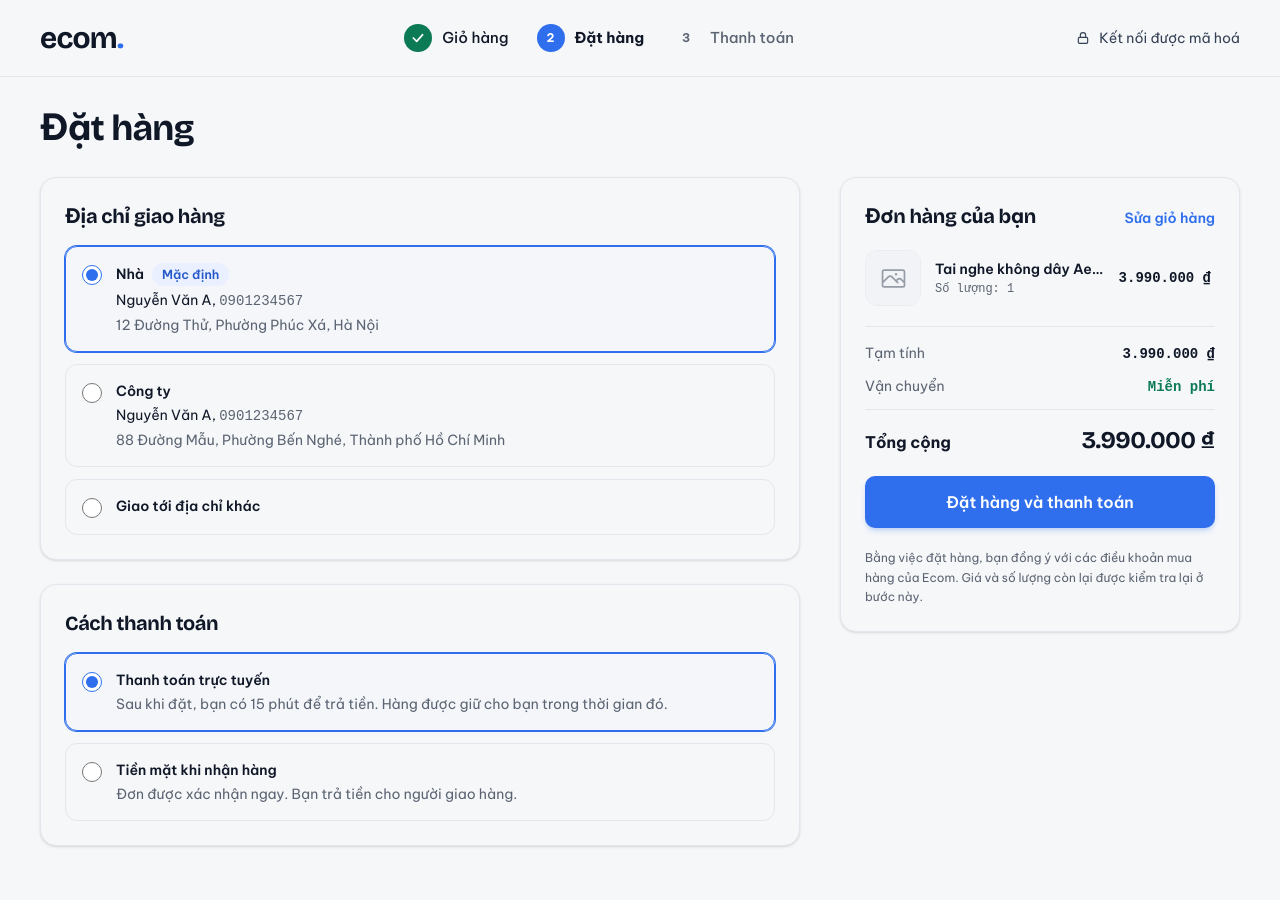
Test: CheckoutPage Integration › allows selecting COD and placing order successfully
Expected: the text "Tiền mặt khi nhận hàng" is shown, [116,761,277,779]
# Select COD radio
What coordinates should you click on to do the following:
click the radio button showing "COD"
I would click on:
 (92, 772)
Its box is [82,762,102,782].
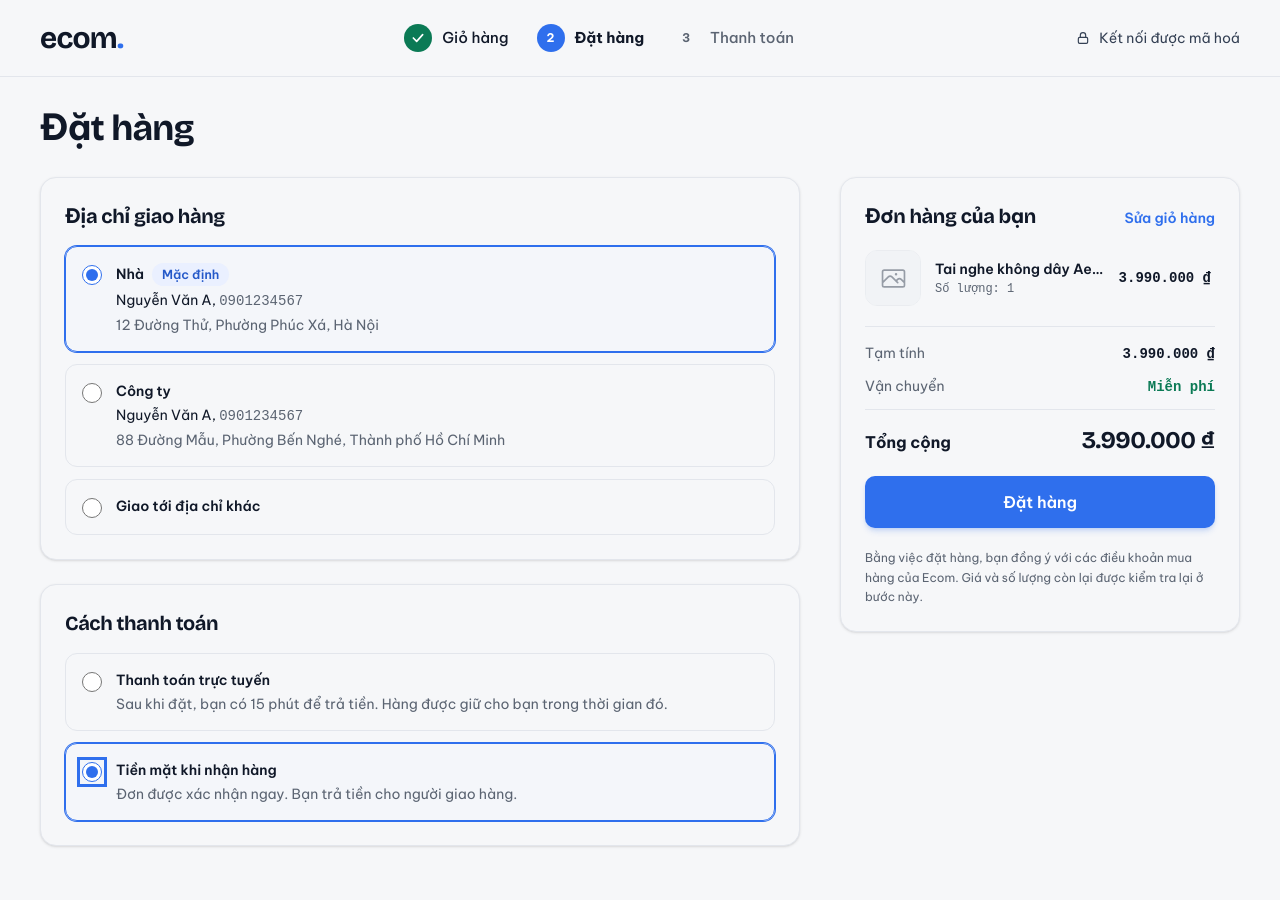
# Place order
What coordinates should you click on to do the following:
click the button "Đặt hàng"
I would click on:
 (1040, 502)
Its box is [865,476,1215,528].
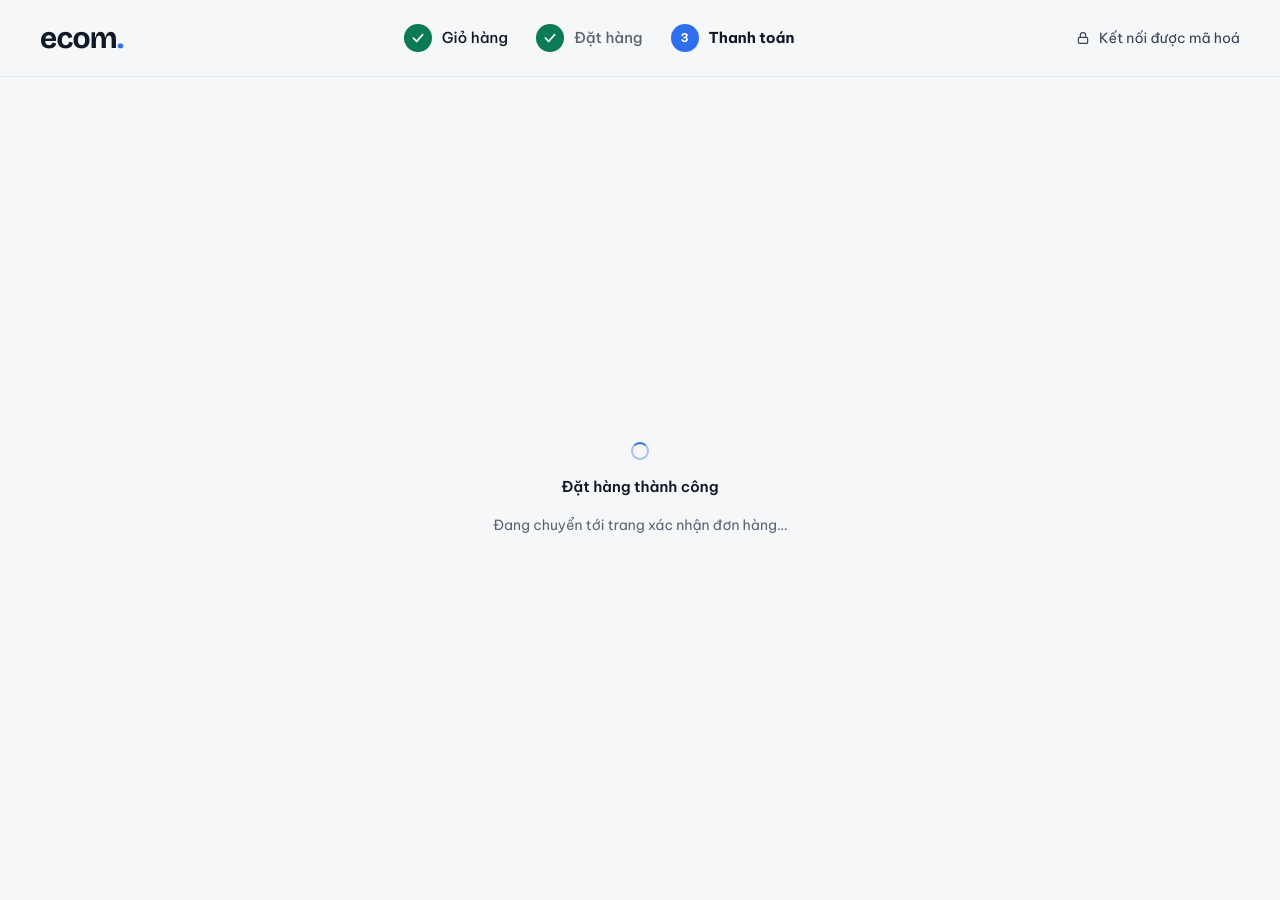
Expected: the text "Đang chuyển tới trang xác nhận đơn hàng…" is shown, [493,515,787,535]
